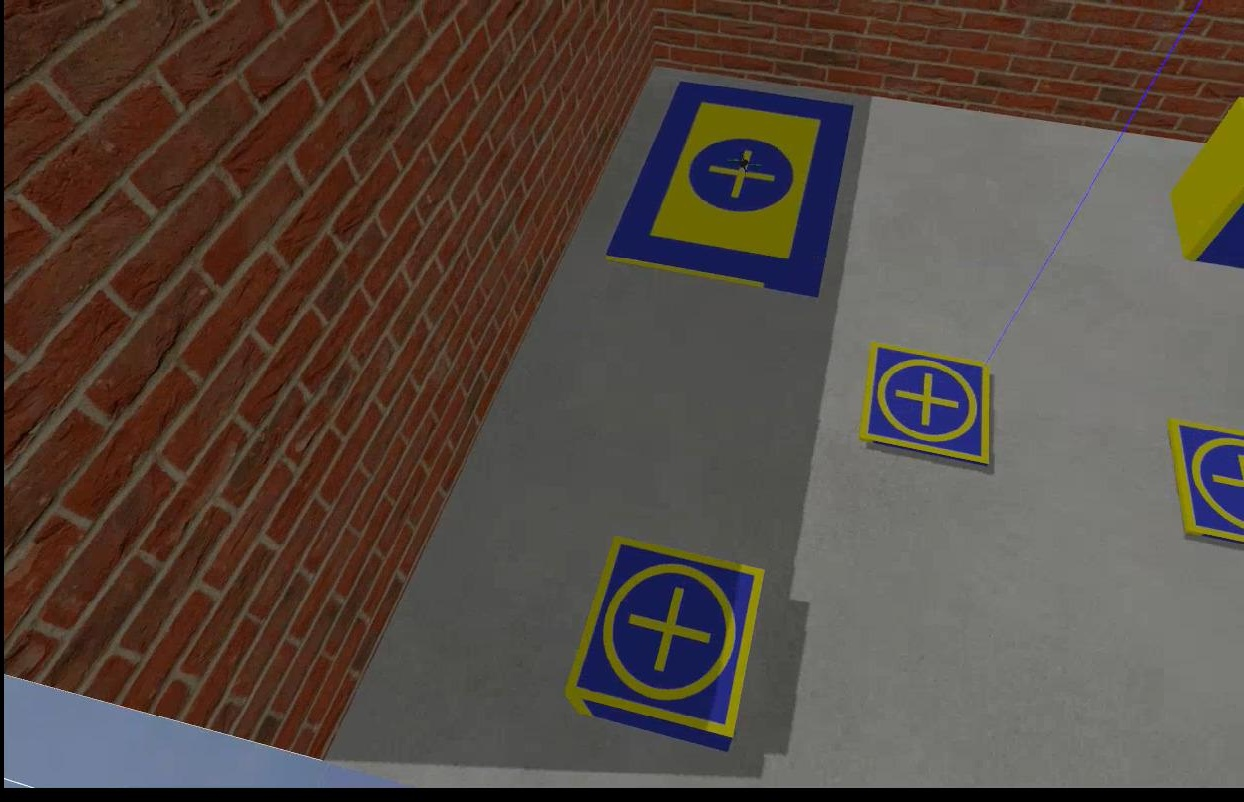large_base: (600, 83, 854, 299)
small_base: (560, 540, 761, 740), (860, 340, 994, 471), (1165, 419, 1242, 549)
